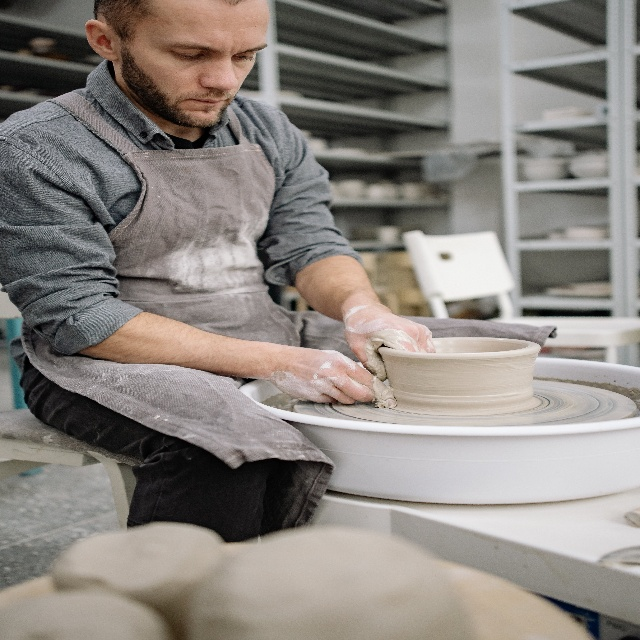Sin_guantes: (345, 296, 437, 382), (275, 345, 397, 409)
